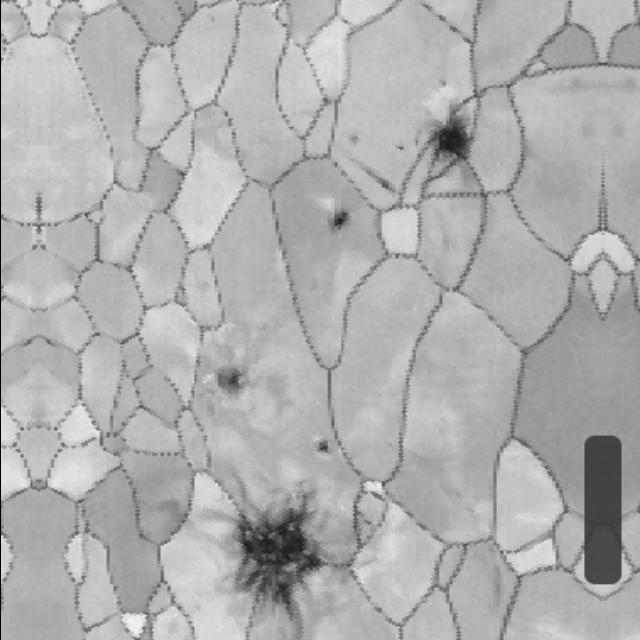good_void: (196, 480, 332, 636), (414, 100, 470, 178), (200, 354, 241, 396), (356, 162, 396, 194), (326, 205, 354, 244), (431, 74, 450, 92), (313, 435, 328, 456), (345, 130, 364, 146), (392, 137, 408, 154), (37, 241, 48, 253), (26, 241, 37, 253)
